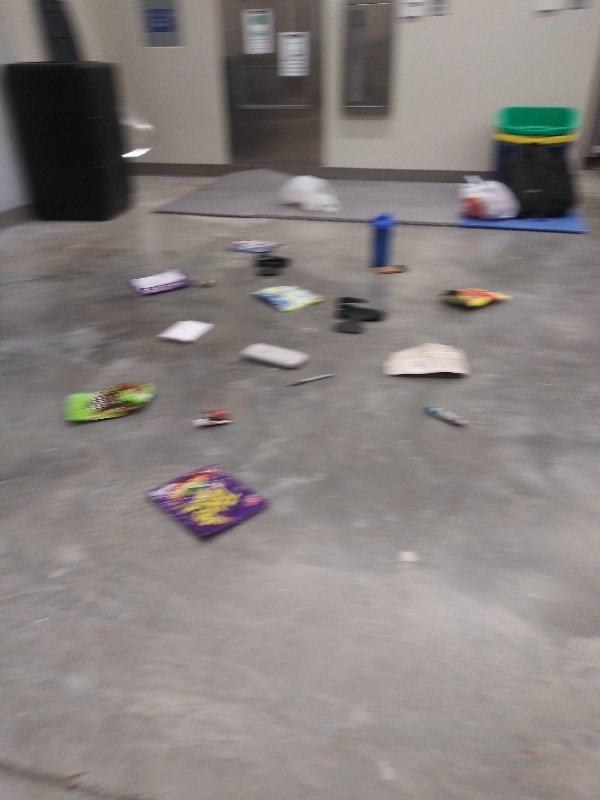bag: (140, 461, 276, 550), (56, 378, 157, 427), (378, 340, 476, 386), (436, 280, 518, 315), (252, 282, 330, 316), (120, 266, 197, 298), (217, 235, 290, 256)
